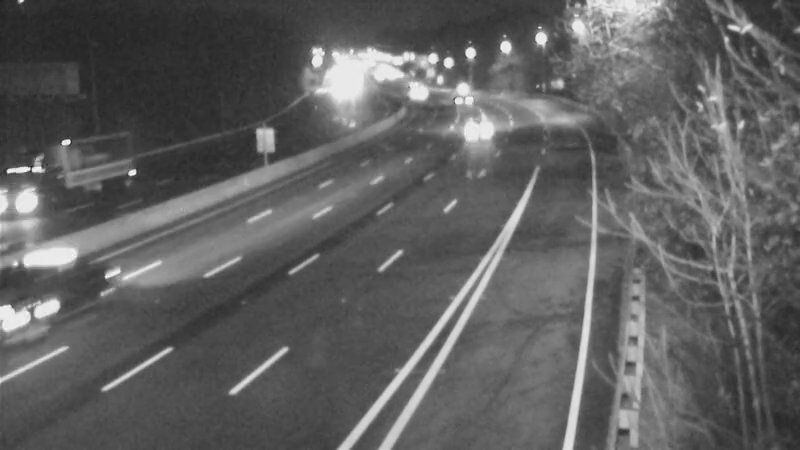vehicle: (1, 259, 87, 369), (1, 153, 75, 233), (391, 62, 441, 112), (436, 64, 486, 114), (452, 105, 502, 155)
